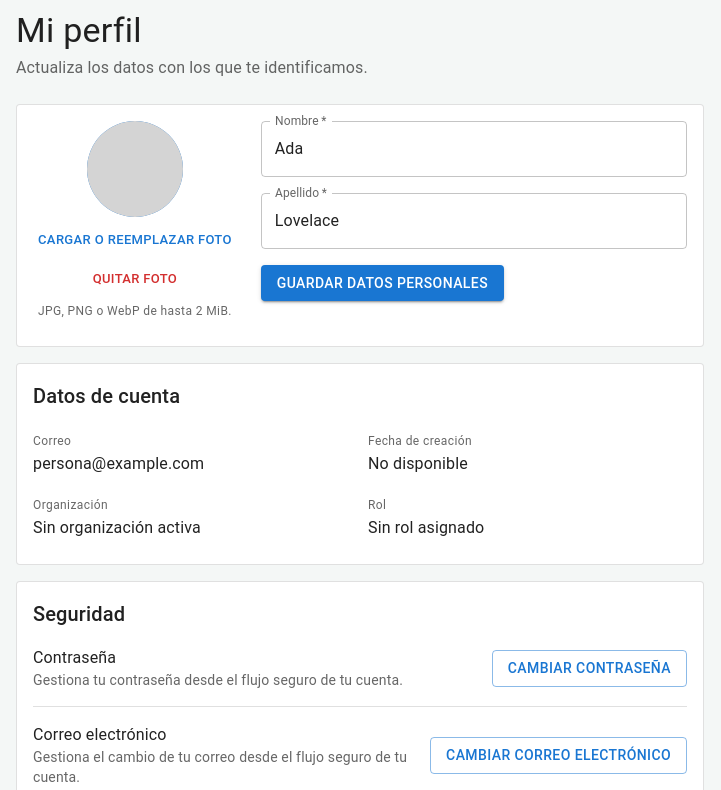
it: PerfilPage › conserva la foto anterior si falla la persistencia del perfil tras eliminarla
The width and height of the screenshot is (721, 790).
What coordinates should you click on to do the following:
click the button "Quitar foto"
I would click on:
 (135, 279)
Its box is [88, 264, 182, 294].
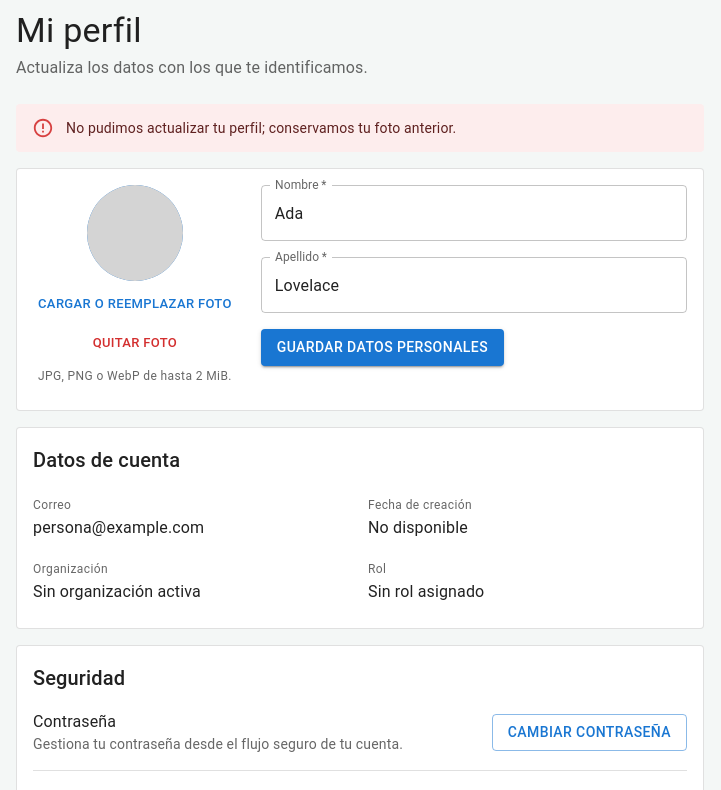
Expected: the button "Quitar foto" is shown, [88, 328, 182, 359]
Expected: the message reads "No pudimos actualizar tu perfil; conservamos tu foto anterior.", [66, 120, 456, 136]
